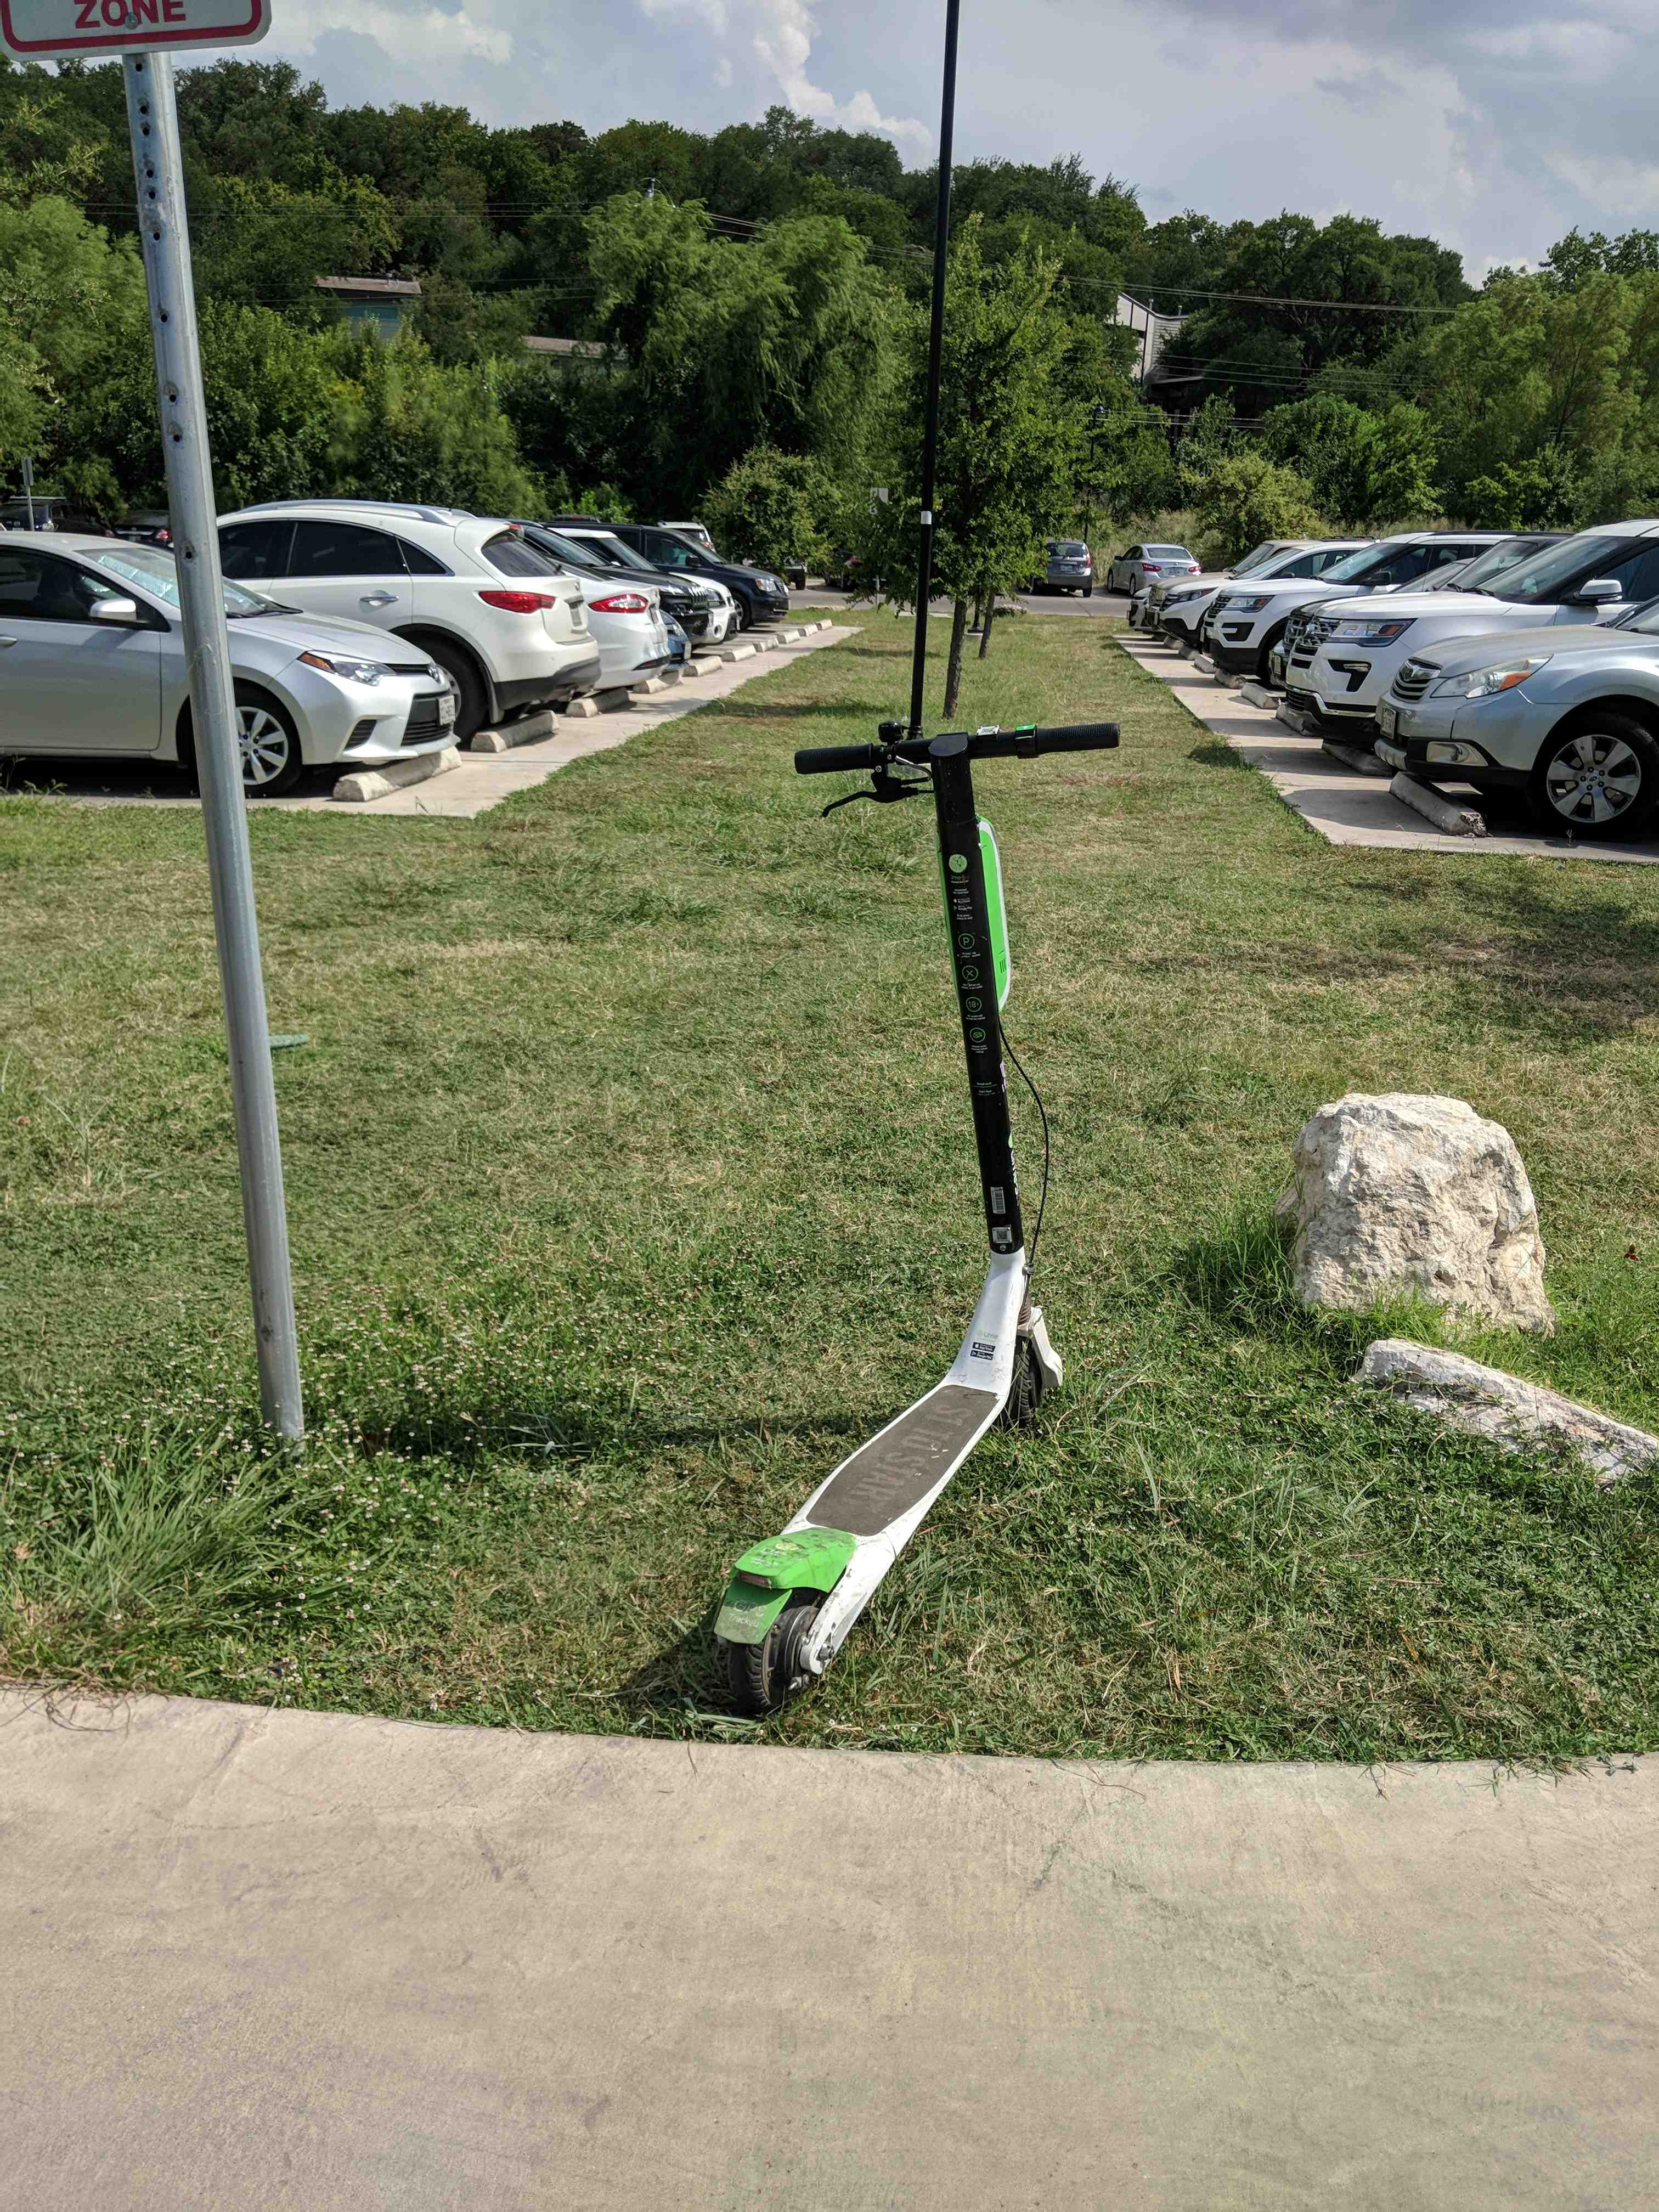scooter: (659, 718, 1150, 1737)
